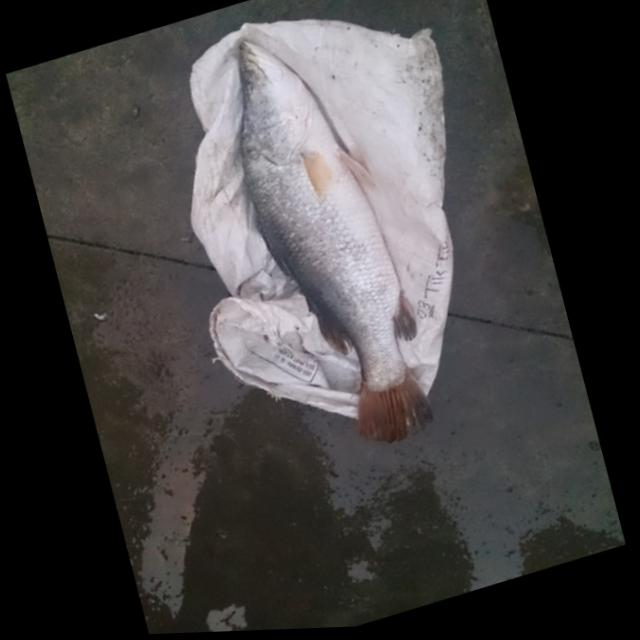Seabass: (200, 6, 445, 470)
